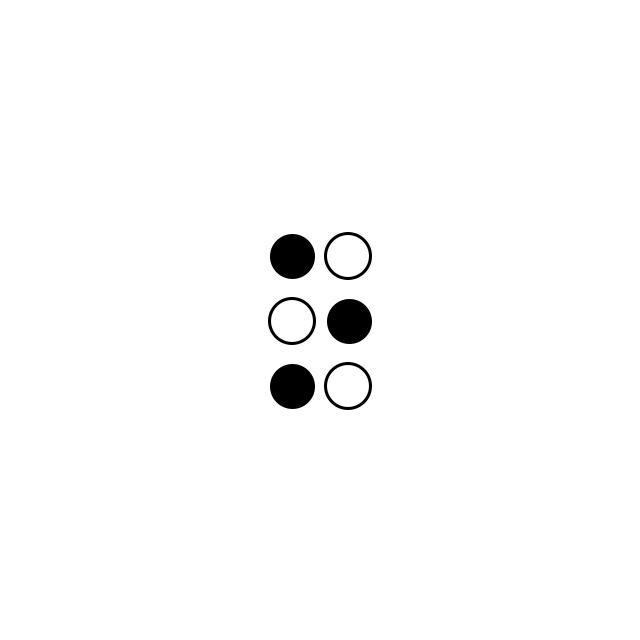O: (263, 226, 373, 417)
